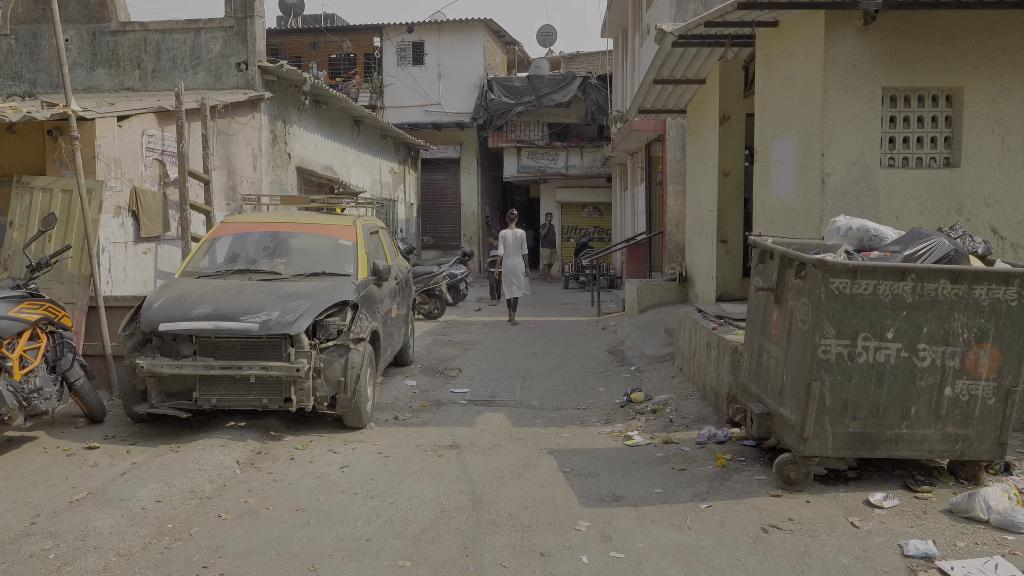dustbin: (748, 227, 1024, 486)
garbage: (949, 482, 1024, 536)
